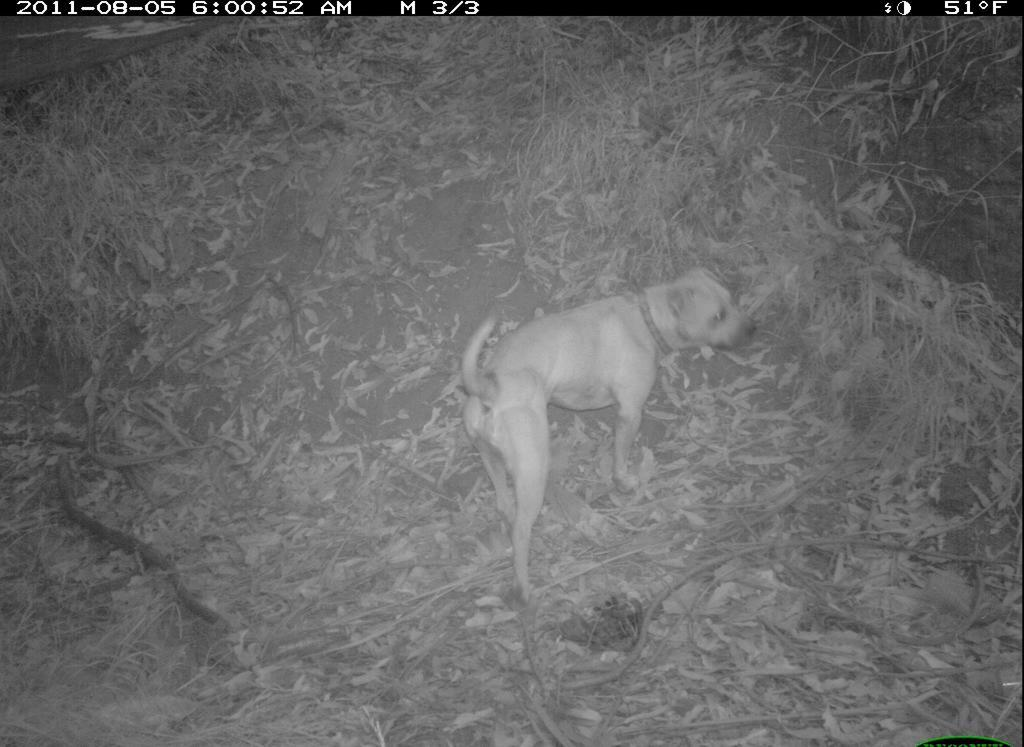dog: (446, 267, 751, 609)
